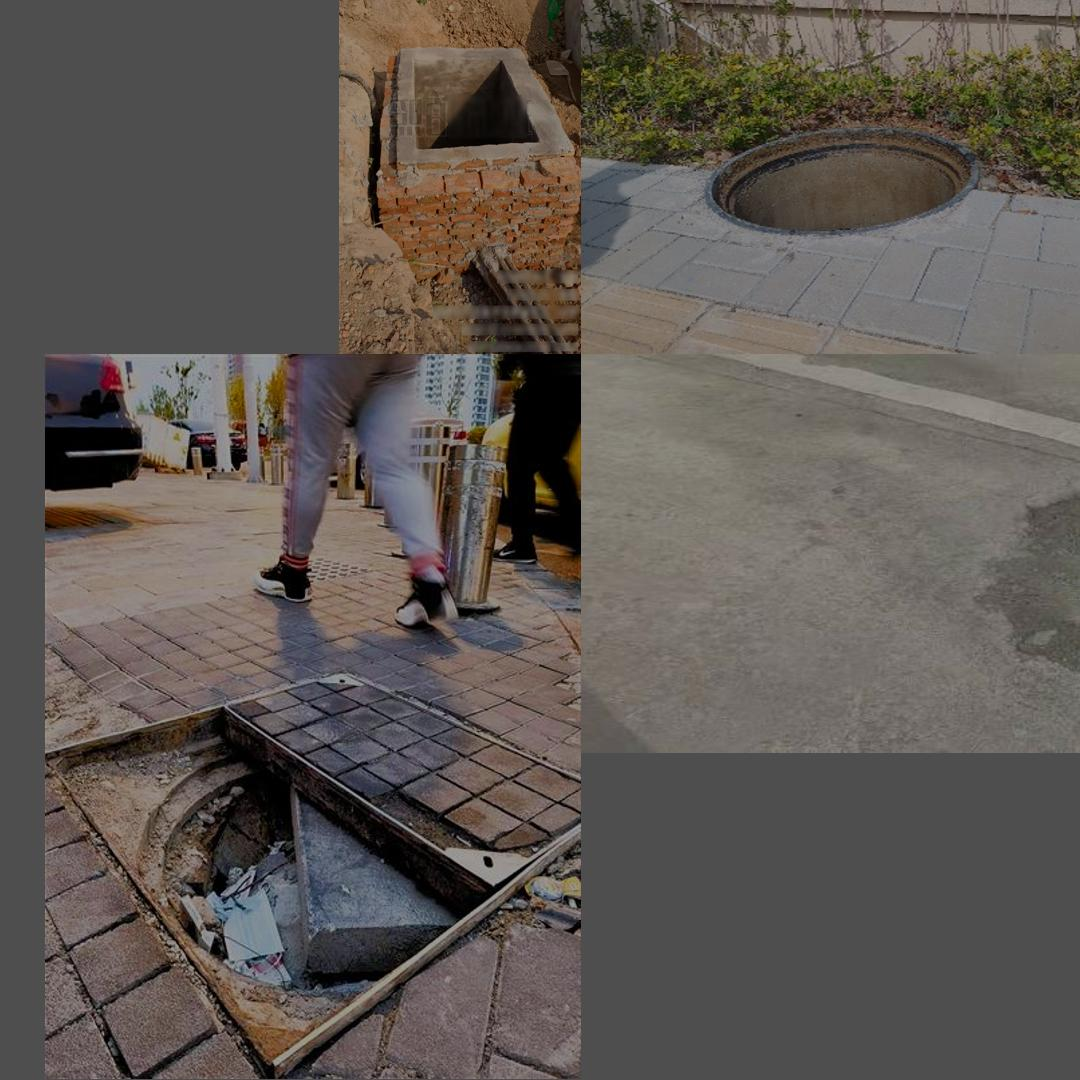lose: (54, 669, 568, 1064), (705, 125, 981, 235), (396, 48, 574, 163)
